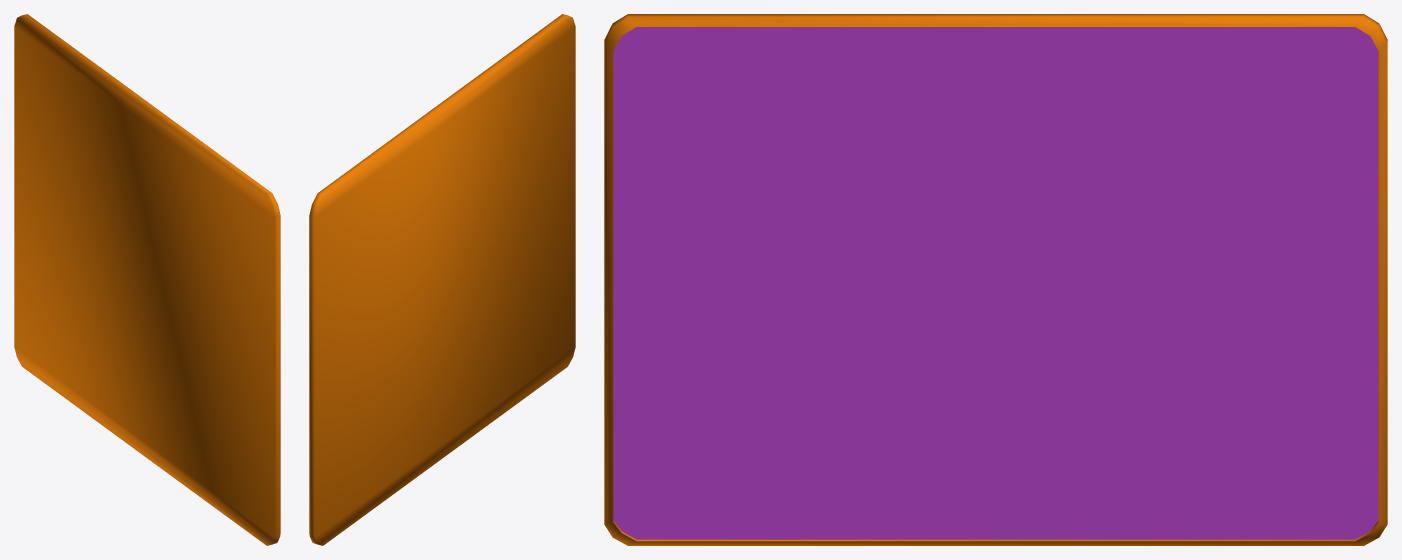
Rendered from cuadro1_pasado.fbx.
The picture shows the model from 3 angles, left to right: view 1: azimuth 30°, elevation 25°; view 2: azimuth 150°, elevation 25°; view 3: azimuth 270°, elevation 25°; orthographic projection. The views are drawn at different scales.
Visible parts, largest first — view 1: Cube.001; view 2: Cube.001; view 3: Cube.004, Cube.001.
Part boxes in pixels (<box>): Cube.001: <box>14,14,280,545</box>; Cube.001: <box>309,14,575,545</box>; Cube.004: <box>613,27,1378,539</box>; Cube.001: <box>604,14,1387,545</box>.
Bounding box in the file's own units: 0.7855 × 29.32 × 39.43.
